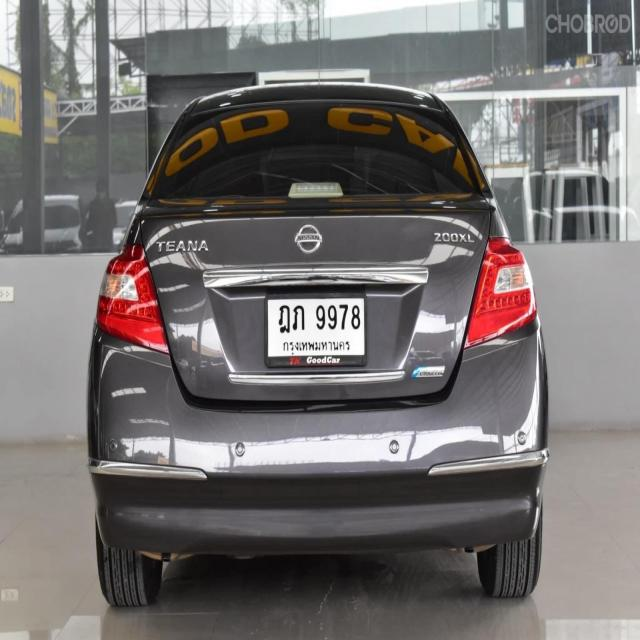license_plate: (258, 288, 375, 375)
